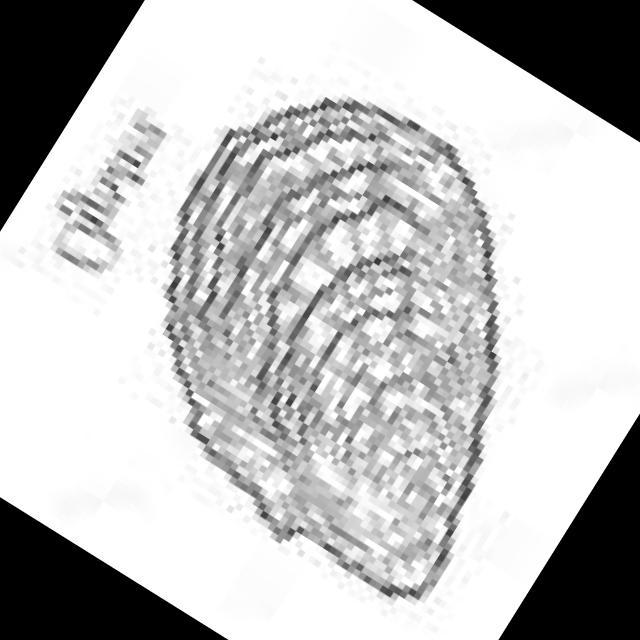Oyster- Indeterminate: (163, 98, 509, 602)
